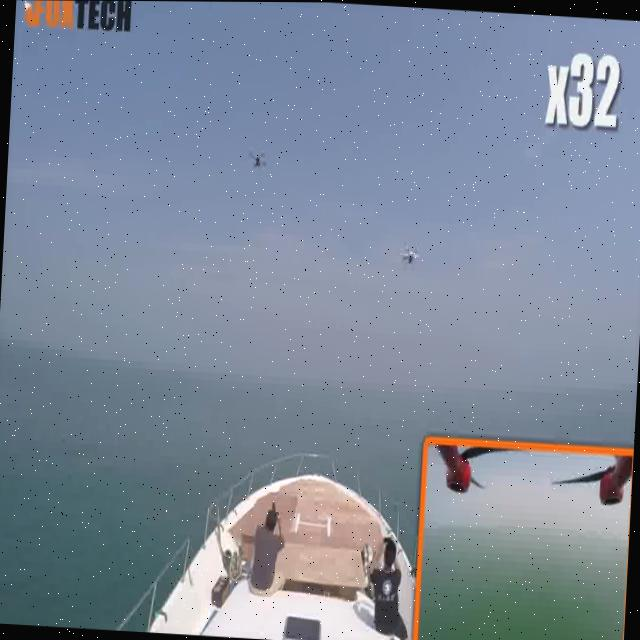drone: (237, 148, 280, 183), (398, 236, 424, 276)
